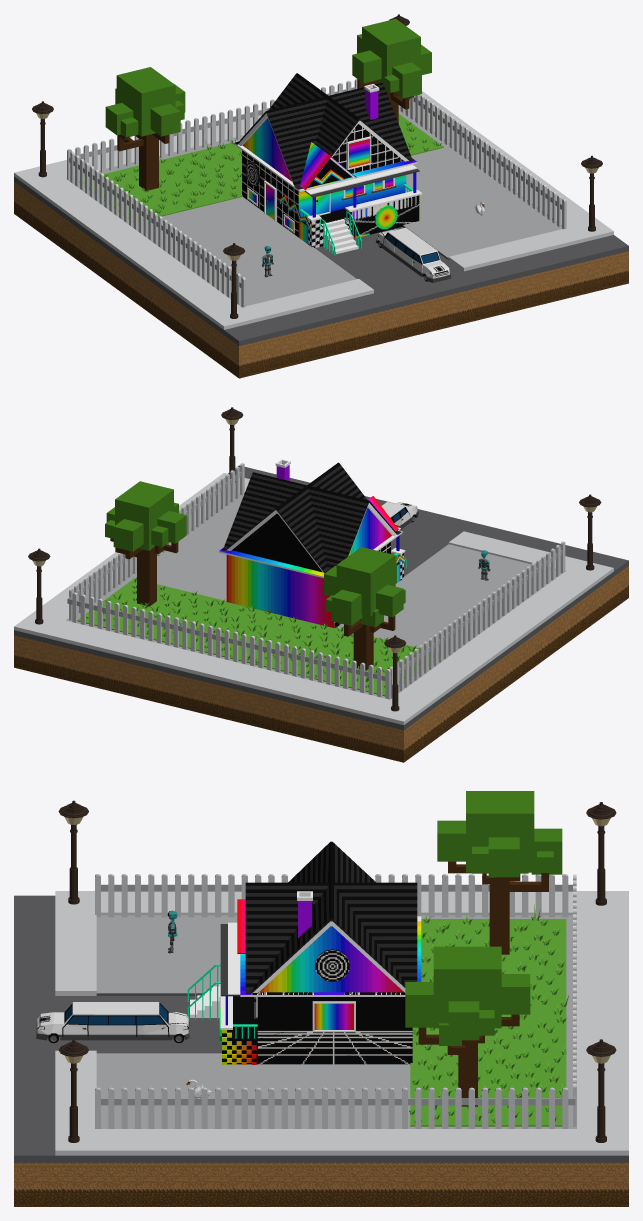
The picture shows the model from 3 angles, top to bottom: view 1: azimuth 30°, elevation 25°; view 2: azimuth 150°, elevation 25°; view 3: azimuth 270°, elevation 25°; orthographic projection. The views are drawn at different scales.
Parts seen in each view (by area): view 1: Cube.004, Cube.1320, VEHICLES_LIMOUSINE; view 2: Cube.004, Cube.1320, VEHICLES_LIMOUSINE; view 3: Cube.004, Cube.1320, VEHICLES_LIMOUSINE.
Boxes of the visible parts, <box> form: Cube.004: <box>14,14,628,378</box>; Cube.1320: <box>233,73,422,255</box>; VEHICLES_LIMOUSINE: <box>375,227,451,282</box>; Cube.004: <box>14,407,628,762</box>; Cube.1320: <box>219,459,406,627</box>; VEHICLES_LIMOUSINE: <box>381,502,418,527</box>; Cube.004: <box>14,791,628,1206</box>; Cube.1320: <box>187,841,421,1064</box>; VEHICLES_LIMOUSINE: <box>36,1002,189,1043</box>.
Size of the model in its own units: 4000 by 1600 by 4000.
33 materials, 5 textured.
